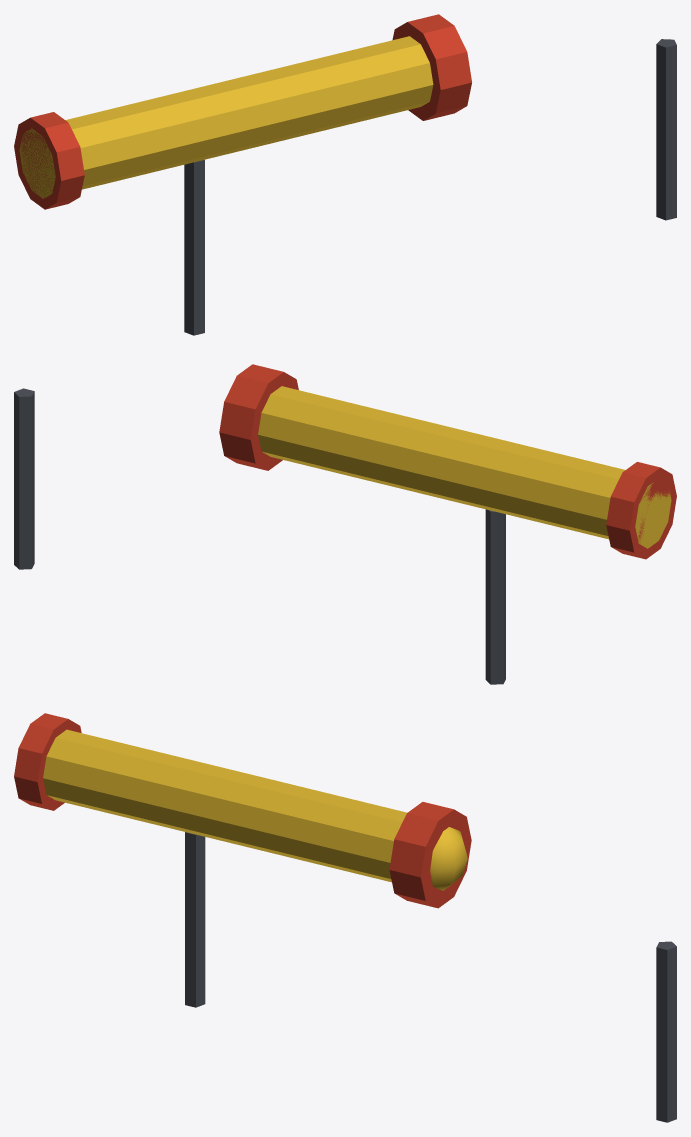
The model's file is PipeG_End.fbx.
The picture shows the model from 3 angles, top to bottom: view 1: azimuth 30°, elevation 25°; view 2: azimuth 150°, elevation 25°; view 3: azimuth 330°, elevation 25°; orthographic projection.
Parts seen in each view (by area): view 1: PipeG_End_Body; view 2: PipeG_End_Body; view 3: PipeG_End_Body.
Boxes of the visible parts, bbox=[...] form: PipeG_End_Body: bbox=[14, 14, 676, 335]; PipeG_End_Body: bbox=[14, 364, 676, 684]; PipeG_End_Body: bbox=[14, 713, 676, 1122].
Bounding box in the file's own units: 0.8114 × 0.3033 × 0.112.
